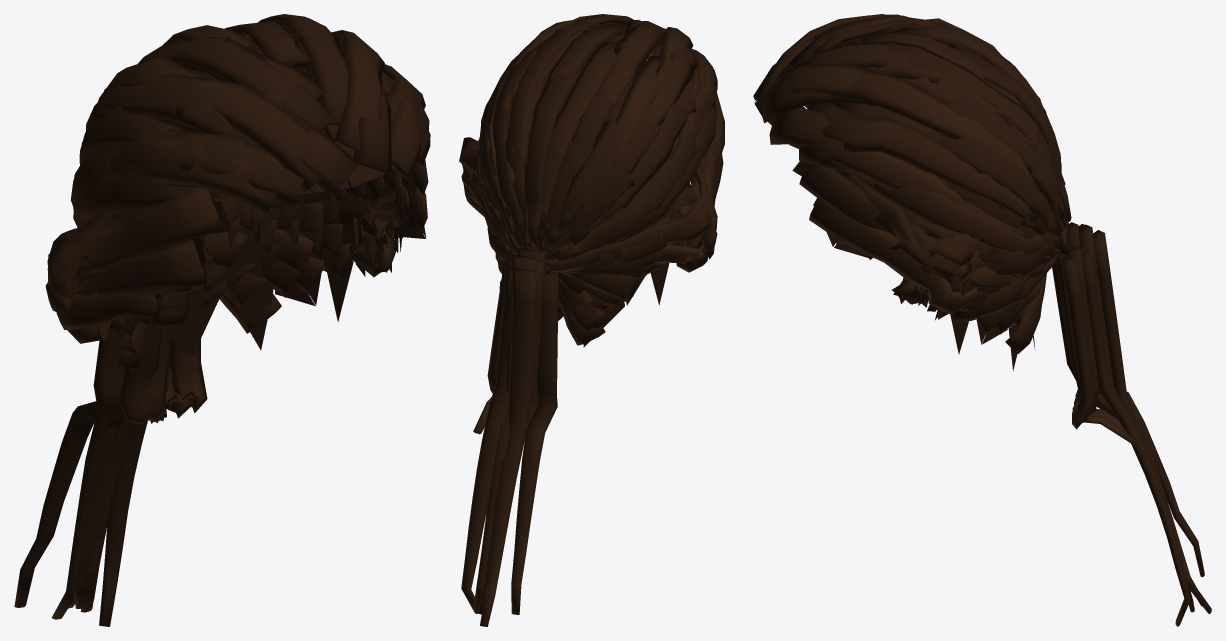
Rendered from kopf.haar.zopf_eng.glb.
3 renders of one model, left to right at view 1: azimuth 30°, elevation 25°; view 2: azimuth 150°, elevation 25°; view 3: azimuth 270°, elevation 25°, orthographic. The views are drawn at different scales.
Visible parts, largest first — view 1: haar; view 2: haar; view 3: haar.
Boxes of the visible parts, bbox=[...] form: haar: bbox=[14, 14, 430, 626]; haar: bbox=[459, 14, 724, 626]; haar: bbox=[753, 14, 1211, 626].
Bounding box in the file's own units: 0.2204 × 0.4136 × 0.292.
